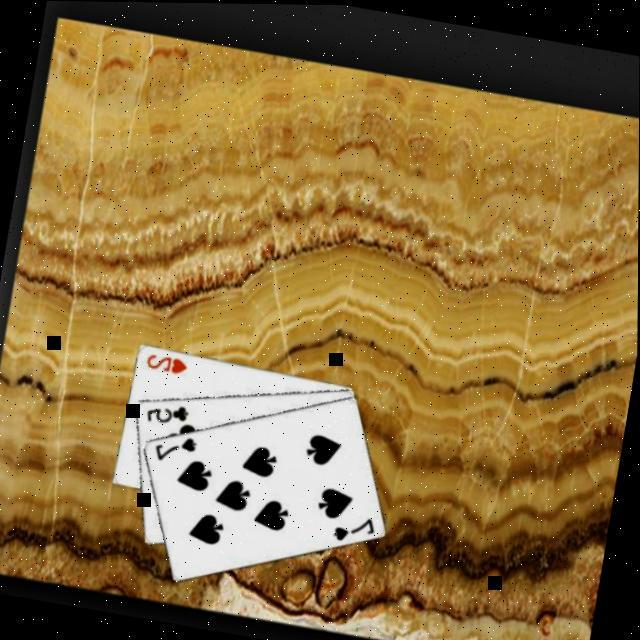2H: (144, 347, 195, 377)
5C: (144, 396, 195, 430)
7S: (151, 427, 202, 468), (331, 507, 382, 548)
